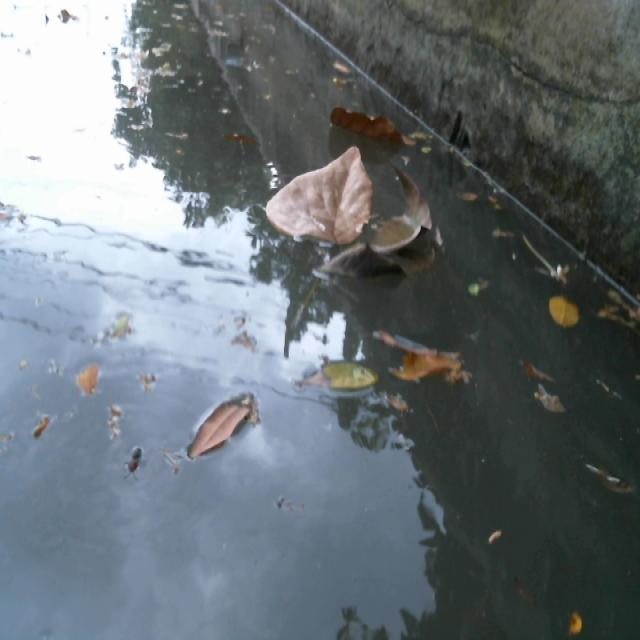Big-leaf: (256, 149, 378, 250), (335, 164, 442, 278), (378, 324, 473, 397), (331, 94, 412, 146)
Small-leaf: (180, 383, 272, 466), (514, 357, 566, 436), (312, 349, 379, 395), (455, 177, 505, 218), (75, 349, 106, 403), (545, 291, 583, 331), (562, 599, 592, 640)
